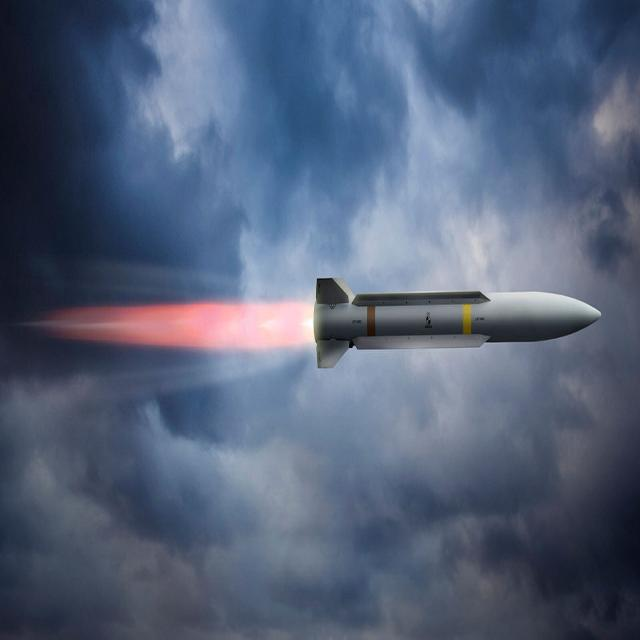rocket: (266, 275, 609, 380)
